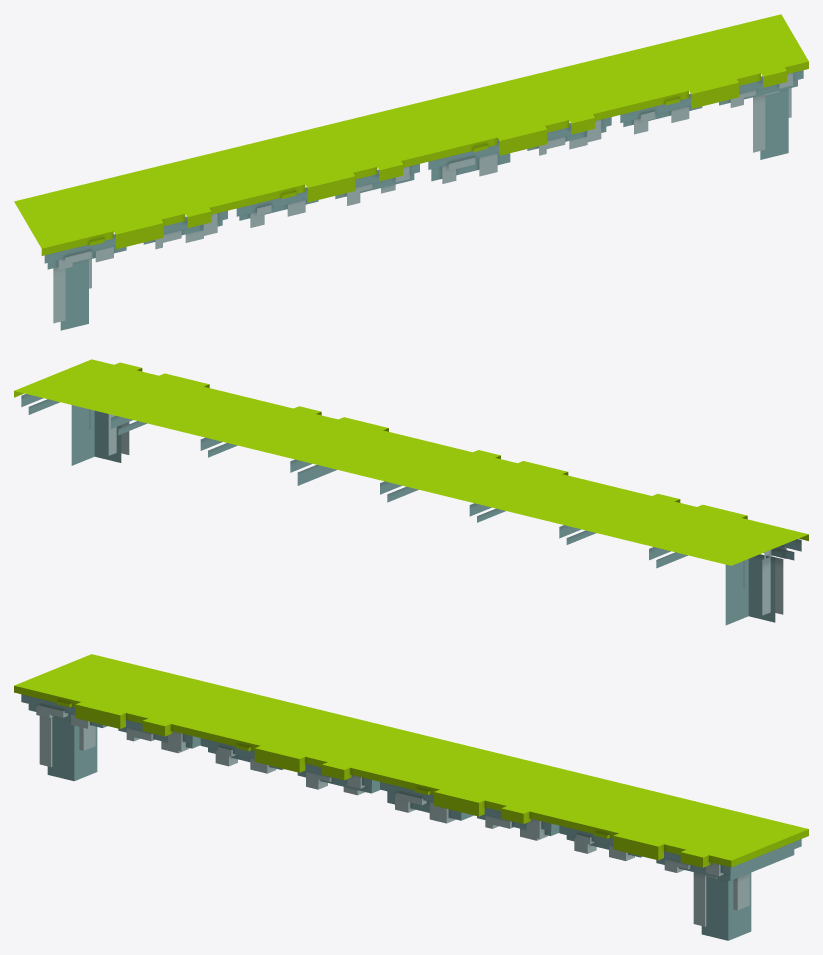
File: Field_Type_01_09.FBX
3 views of the same model, one above another, from view 1: azimuth 30°, elevation 25°; view 2: azimuth 150°, elevation 25°; view 3: azimuth 330°, elevation 25° (orthographic). The views are drawn at different scales.
Parts seen in each view (by area): view 1: Field_Type_01_09; view 2: Field_Type_01_09; view 3: Field_Type_01_09.
Part boxes in pixels (x1,y1,x2,y2): Field_Type_01_09: (14,14,808,330); Field_Type_01_09: (14,359,808,625); Field_Type_01_09: (14,654,808,940).
Bounding box in the file's own units: 179 × 20.43 × 23.21.
